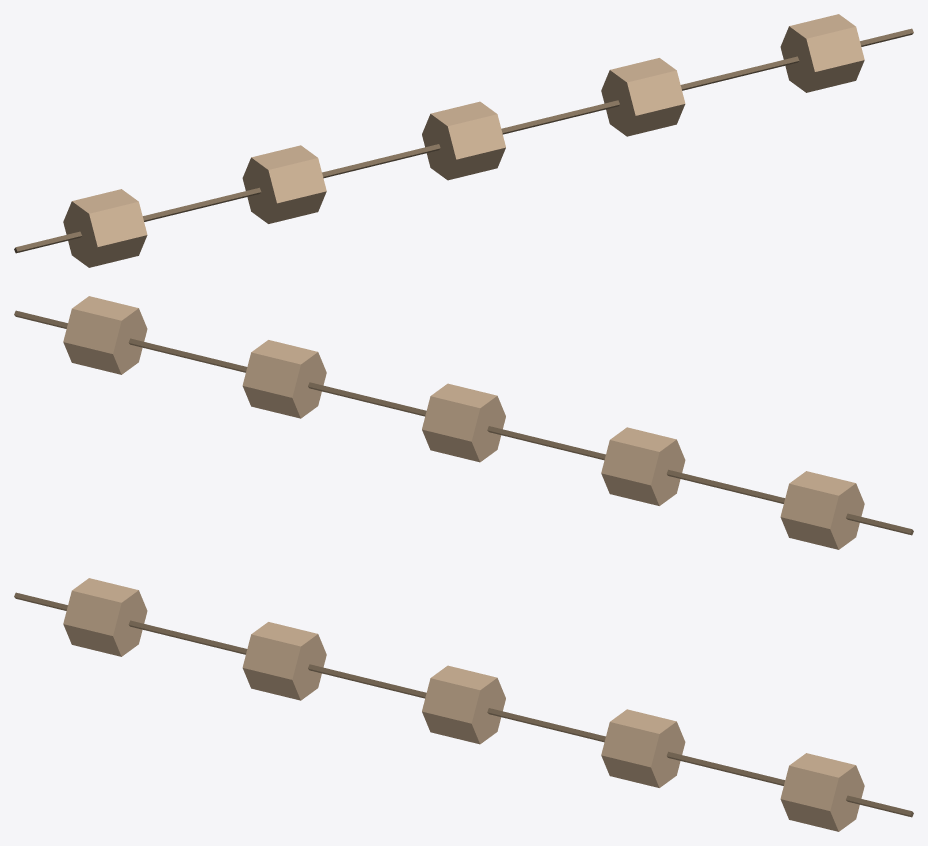
Rendered from prop-cork-float-string.fbx.
3 renders of one model, top to bottom at view 1: azimuth 30°, elevation 25°; view 2: azimuth 150°, elevation 25°; view 3: azimuth 330°, elevation 25°, orthographic.
Visible parts, largest first — view 1: prop-cork-float-string; view 2: prop-cork-float-string; view 3: prop-cork-float-string.
Boxes of the visible parts, left/top/right/bottom form: prop-cork-float-string: left=14, top=14, right=913, bottom=267; prop-cork-float-string: left=14, top=296, right=913, bottom=549; prop-cork-float-string: left=14, top=578, right=913, bottom=831.
Size of the model in its own units: 90 by 5.2 by 6.
